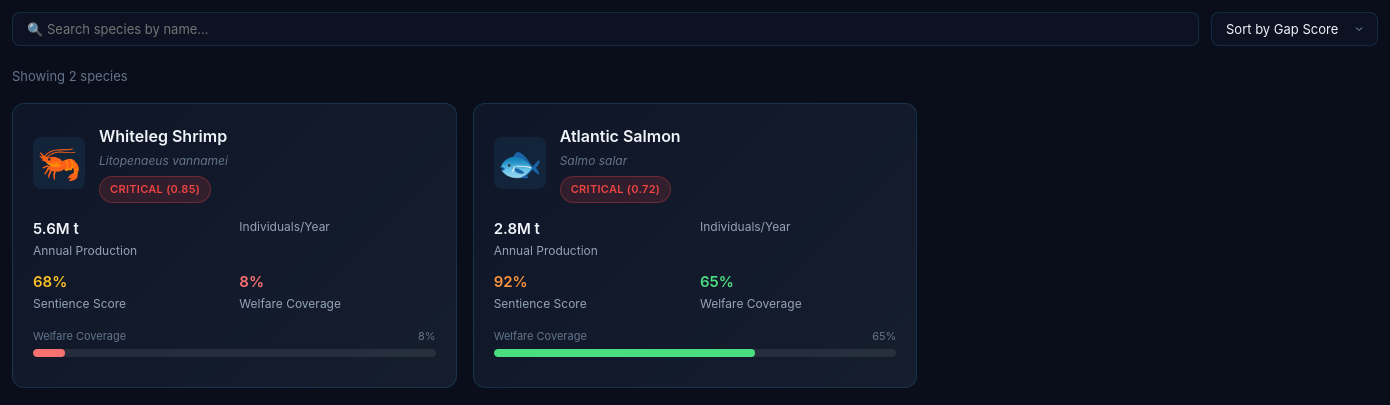
Test: SpeciesExplorer › search is case-insensitive
Type "SHRIMP" into the field at (606,29), box top-left (12, 12), bottom-right (1199, 46)
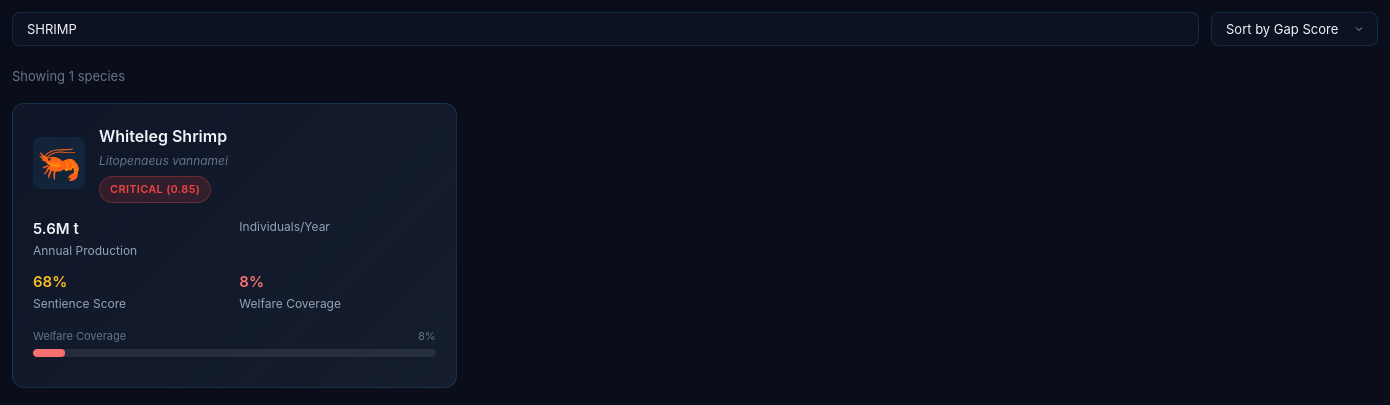
Expected: the heading "Whiteleg Shrimp" is shown, top-left (99, 124), bottom-right (228, 149)
Expected: the heading "Atlantic Salmon" is gone
